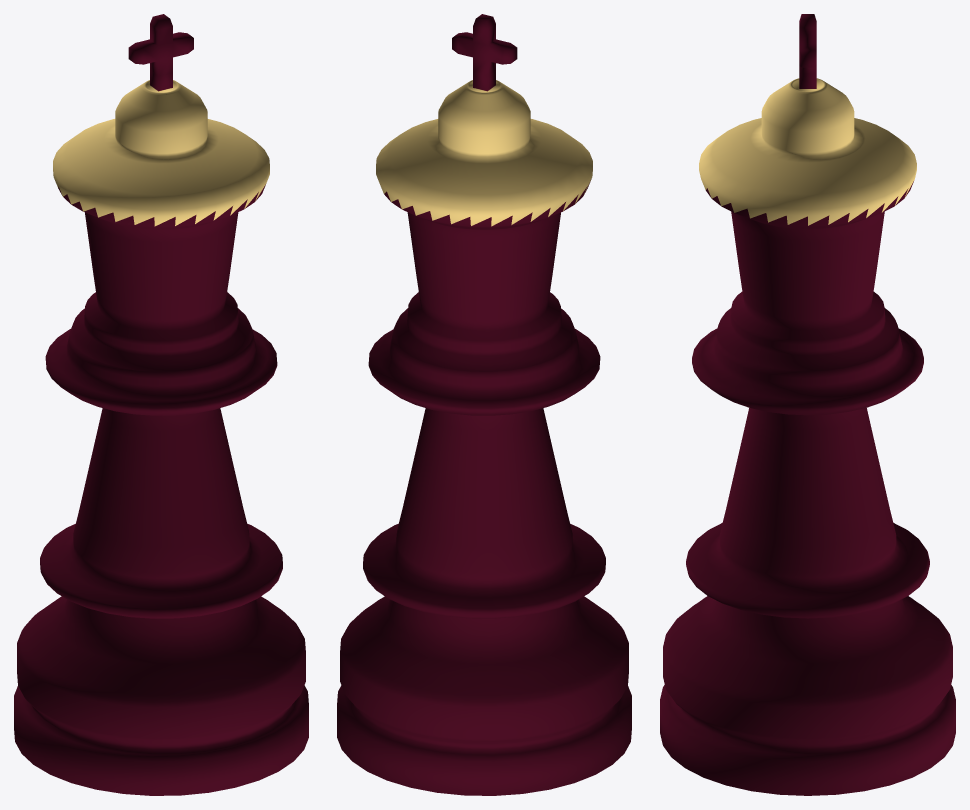
File: gercek3_k_b.glb
3 views of the same model, side by side, from view 1: azimuth 30°, elevation 25°; view 2: azimuth 150°, elevation 25°; view 3: azimuth 270°, elevation 25° (orthographic).
Visible parts, largest first — view 1: k_0, k_1; view 2: k_0, k_1; view 3: k_0, k_1.
Boxes of the visible parts, x1=… form: k_0: x1=14, y1=80, x2=308, y2=795; k_1: x1=128, y1=14, x2=193, y2=91; k_0: x1=337, y1=80, x2=631, y2=795; k_1: x1=452, y1=14, x2=517, y2=91; k_0: x1=660, y1=78, x2=955, y2=795; k_1: x1=799, y1=14, x2=816, y2=88.
Bounding box in the file's own units: 0.3366 × 0.9 × 0.3366.
